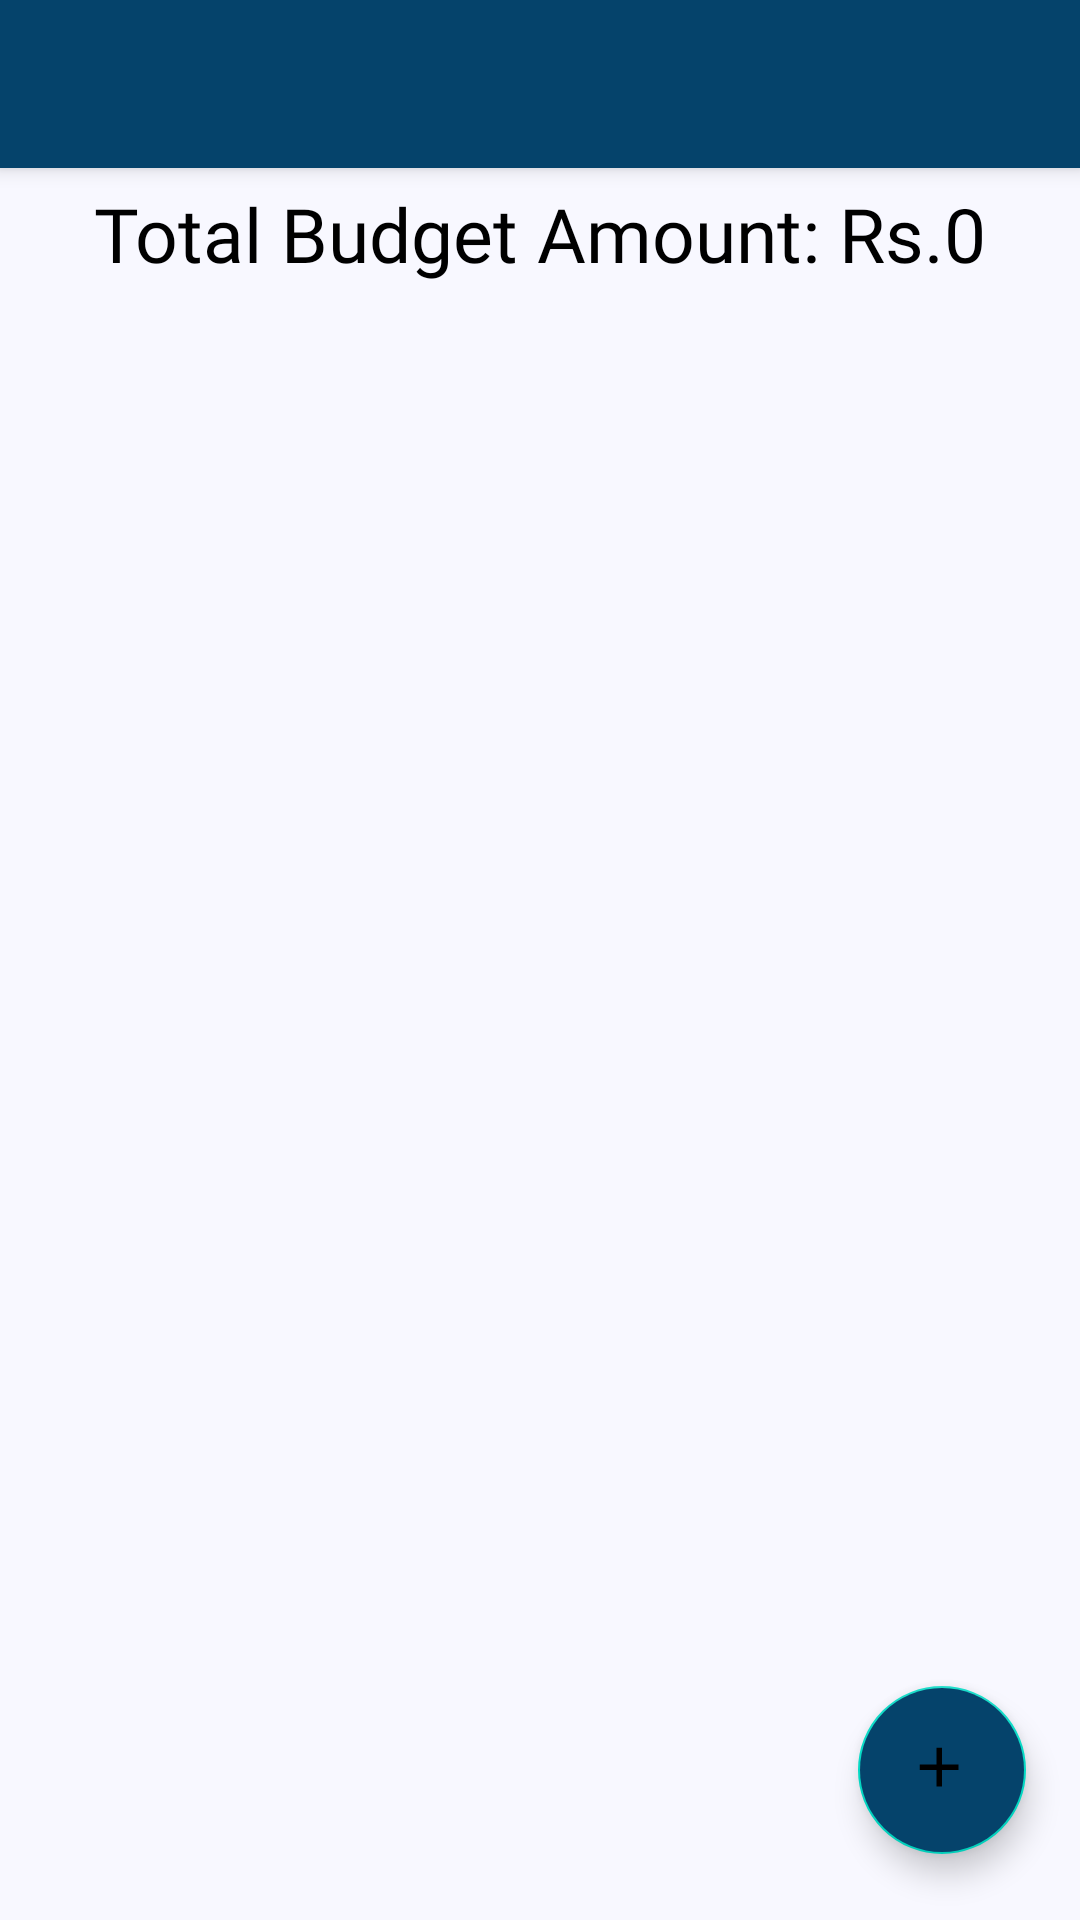

Where icons sit on this 1080×1920 app screen, as (x1, y1, x2, y2):
budget float add: (858, 1686, 1026, 1854)
